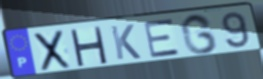9: (218, 10, 252, 49)
E: (142, 17, 183, 59)
G: (179, 12, 220, 55)
H: (68, 26, 109, 67)
K: (108, 23, 143, 61)
X: (33, 28, 73, 73)
